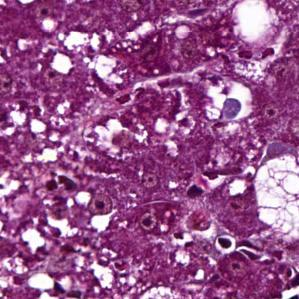ballooning: (253, 151, 299, 240)
